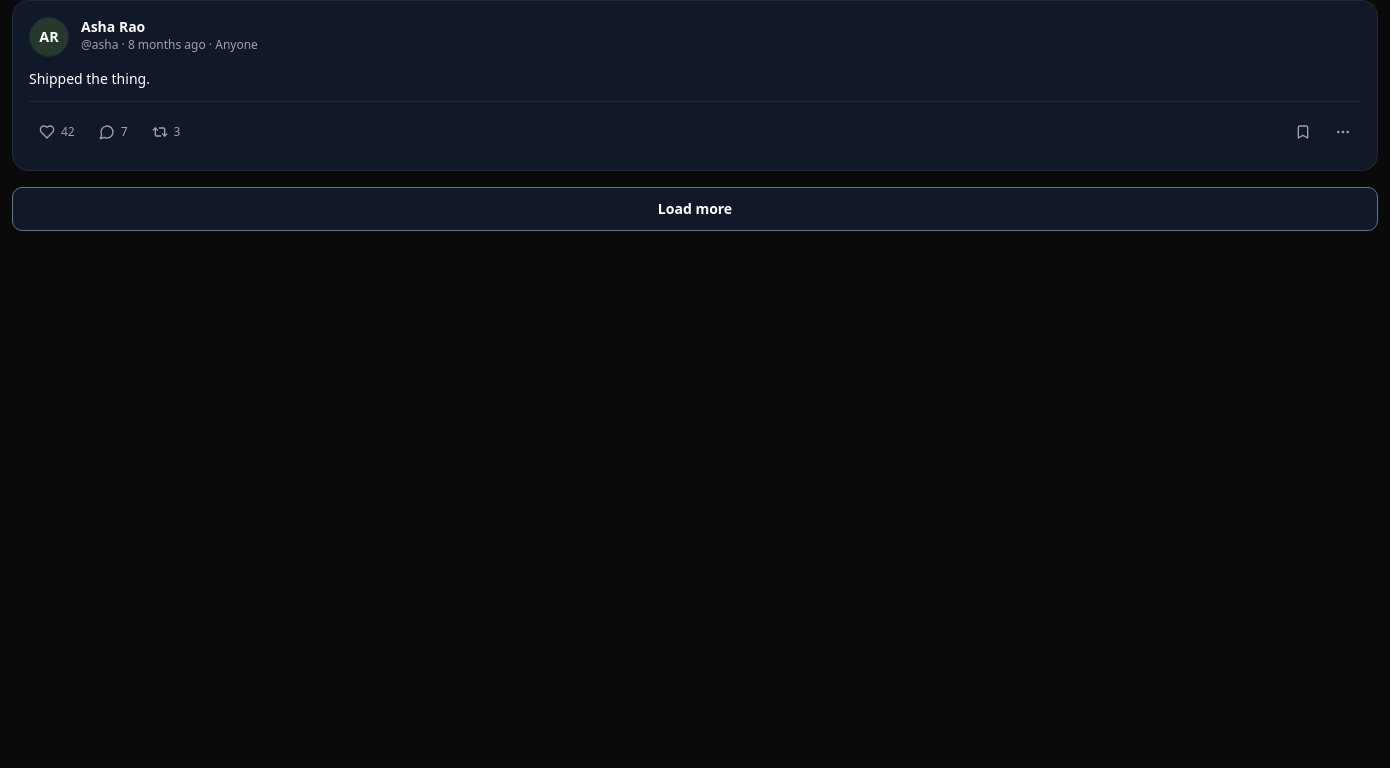
Test case: PostFeed — an action that fails must say so › reports a failed page load
Click the button "Load more" at (695, 209), box [12,187,1378,231]
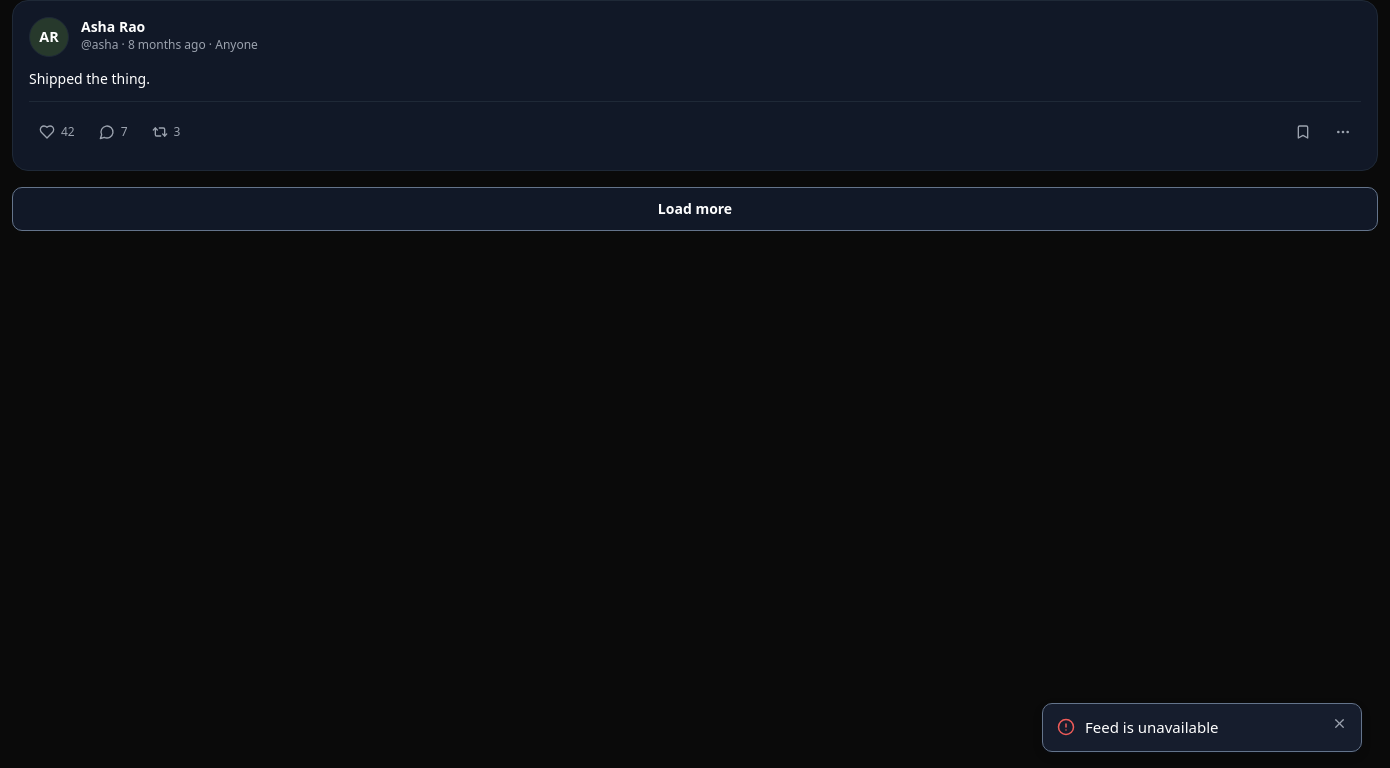
Check: the text "Feed is unavailable" is shown, box [1084,716,1218,737]
